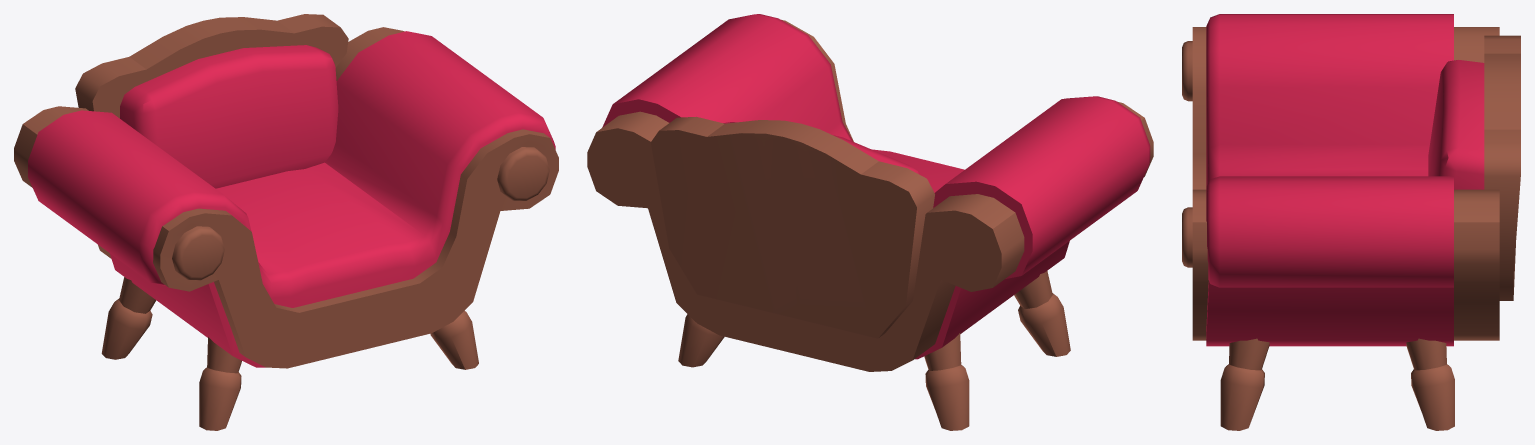
The model's file is loungechair_red.fbx.
The picture shows the model from 3 angles, left to right: view 1: azimuth 30°, elevation 25°; view 2: azimuth 150°, elevation 25°; view 3: azimuth 270°, elevation 25°; orthographic projection. The views are drawn at different scales.
Parts seen in each view (by area): view 1: loungechair_red; view 2: loungechair_red; view 3: loungechair_red.
Boxes of the visible parts, x1,y1,x2,y2 form: loungechair_red: (14,14,558,430); loungechair_red: (587,14,1153,430); loungechair_red: (1182,14,1520,430).
Size of the model in its own units: 2.16 by 1.36 by 1.46.
